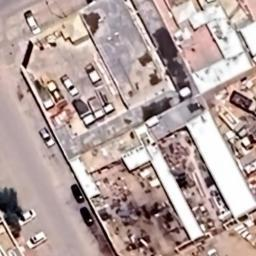others: (25, 230, 50, 250)
sedan: (14, 208, 38, 228)
truck: (30, 74, 54, 110), (70, 96, 96, 126), (44, 79, 68, 107), (86, 94, 108, 120)
unknown: (68, 181, 88, 204), (78, 206, 96, 226)
van: (33, 126, 59, 148), (83, 64, 106, 87), (24, 9, 42, 37)
